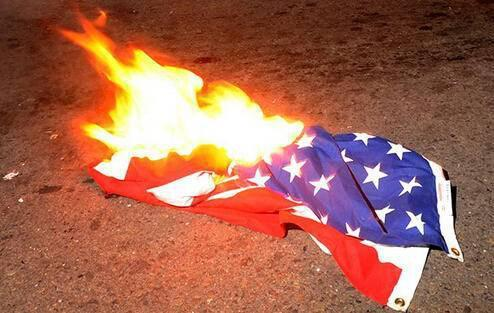fire: (52, 8, 309, 172)
